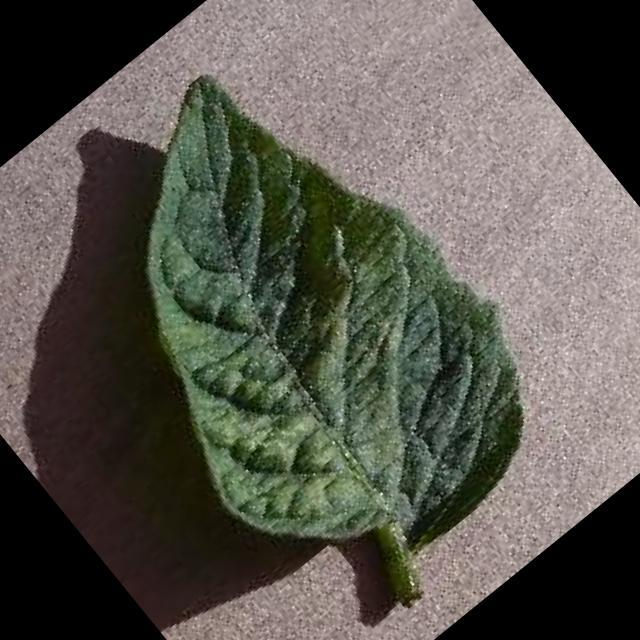Tomato spider mites leaf: (4, 20, 586, 632)
